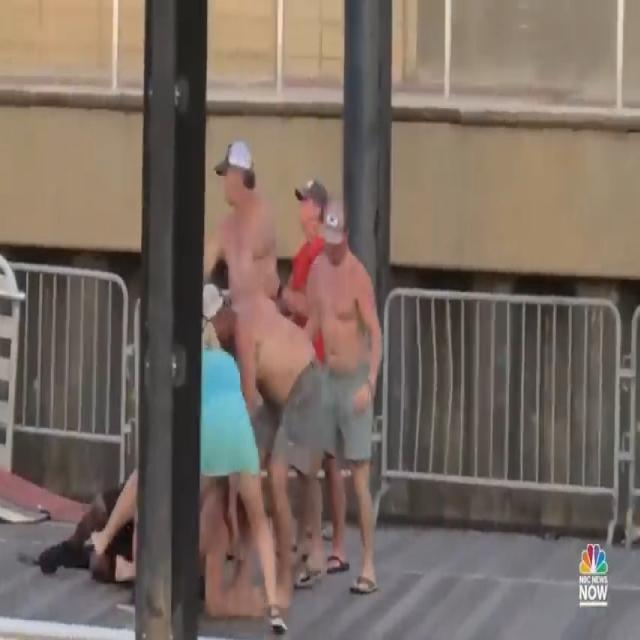fight: (34, 129, 402, 640)
